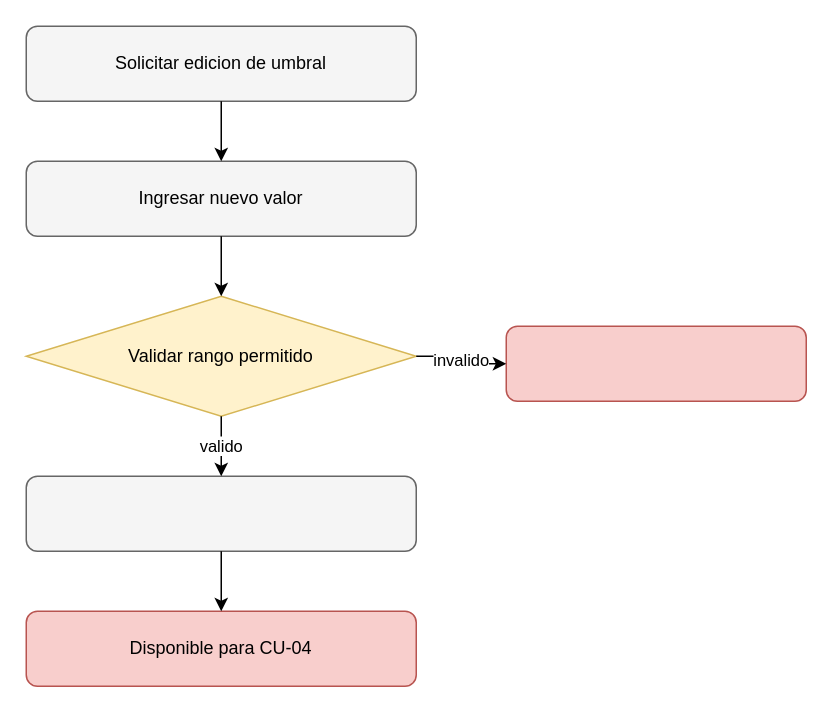
The diagram is 833 pixels wide and 713 high, and some of its shapes have lost their labels. The box of each missing label's shape, as (x1, y1, x2, y2) in pixels:
Guardar configuracion: (25, 475, 416, 551)
Invalido: rechazar: (505, 325, 806, 401)
